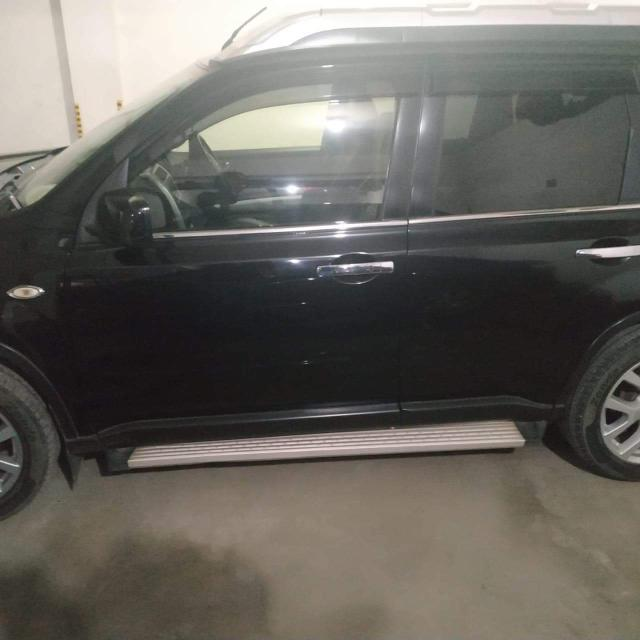black: (6, 14, 640, 506)
